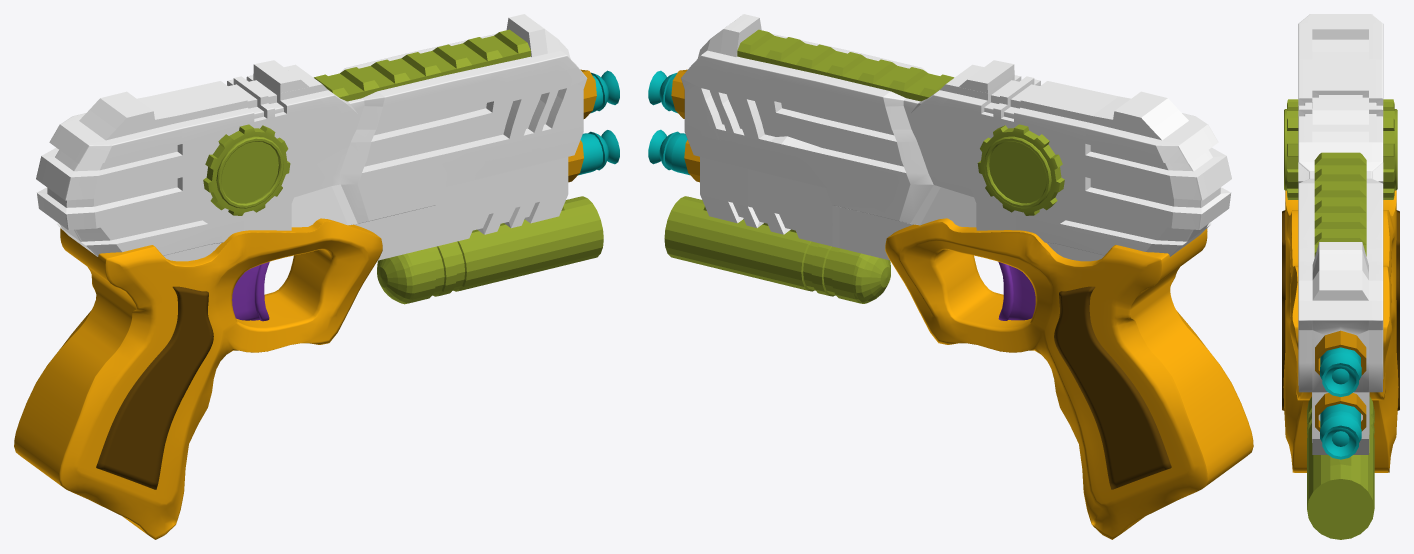
File: Toy_Gun.fbx
3 views of the same model, side by side, from view 1: azimuth 30°, elevation 25°; view 2: azimuth 150°, elevation 25°; view 3: azimuth 270°, elevation 25° (orthographic). The views are drawn at different scales.
Parts seen in each view (by area): view 1: body, handle, polySurface12, handle_design, polySurface13, polySurface11, pCube3, pSphere10, pSphere7; view 2: body, handle, polySurface12, handle_design, polySurface13, polySurface11, pCube3, pSphere10, pSphere7; view 3: body, handle, polySurface12, polySurface13, polySurface11, pSphere10, pSphere7, handle_design, pCylinder5, pCylinder7.
Part boxes in pixels (x1,y1,x2,y2): body: [36, 14, 587, 261]; handle: [14, 218, 382, 539]; polySurface12: [377, 196, 603, 304]; handle_design: [96, 286, 213, 489]; polySurface13: [314, 29, 530, 101]; polySurface11: [203, 124, 290, 215]; pCube3: [232, 262, 269, 321]; pSphere10: [578, 130, 619, 175]; pSphere7: [590, 70, 619, 113]; body: [681, 14, 1231, 261]; handle: [885, 218, 1253, 539]; polySurface12: [664, 196, 890, 303]; handle_design: [1054, 286, 1171, 489]; polySurface13: [737, 29, 954, 101]; polySurface11: [977, 124, 1064, 215]; pCube3: [998, 262, 1035, 320]; pSphere10: [648, 129, 689, 175]; pSphere7: [648, 70, 677, 113]; body: [1298, 14, 1383, 454]; handle: [1283, 190, 1398, 472]; polySurface12: [1307, 396, 1374, 539]; polySurface13: [1314, 152, 1366, 256]; polySurface11: [1284, 99, 1397, 199]; pSphere10: [1320, 403, 1361, 459]; pSphere7: [1320, 347, 1361, 396]; handle_design: [1282, 210, 1399, 410]; pCylinder5: [1315, 330, 1366, 375]; pCylinder7: [1315, 393, 1366, 431].
Size of the model in its own units: 4.44 by 3.1 by 0.7451.
